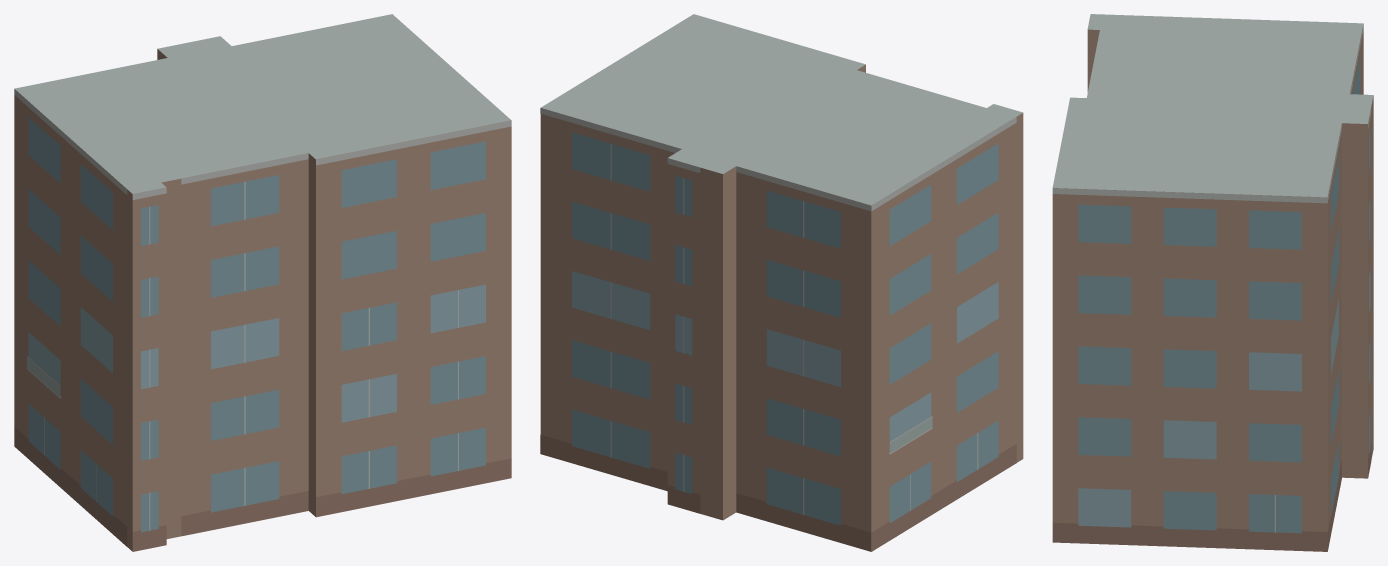
File: survey-upis-32755577.glb
3 views of the same model, side by side, from view 1: azimuth 30°, elevation 25°; view 2: azimuth 150°, elevation 25°; view 3: azimuth 270°, elevation 25° (orthographic). The views are drawn at different scales.
Visible parts, largest first — view 1: survey-upis-32755577.tmp; view 2: survey-upis-32755577.tmp; view 3: survey-upis-32755577.tmp.
Part boxes in pixels (x1,y1,x2,y2): survey-upis-32755577.tmp: (14, 14, 511, 551); survey-upis-32755577.tmp: (540, 14, 1023, 551); survey-upis-32755577.tmp: (1052, 14, 1373, 551).
Size of the model in its own units: 15.98 by 14.4 by 11.82.
